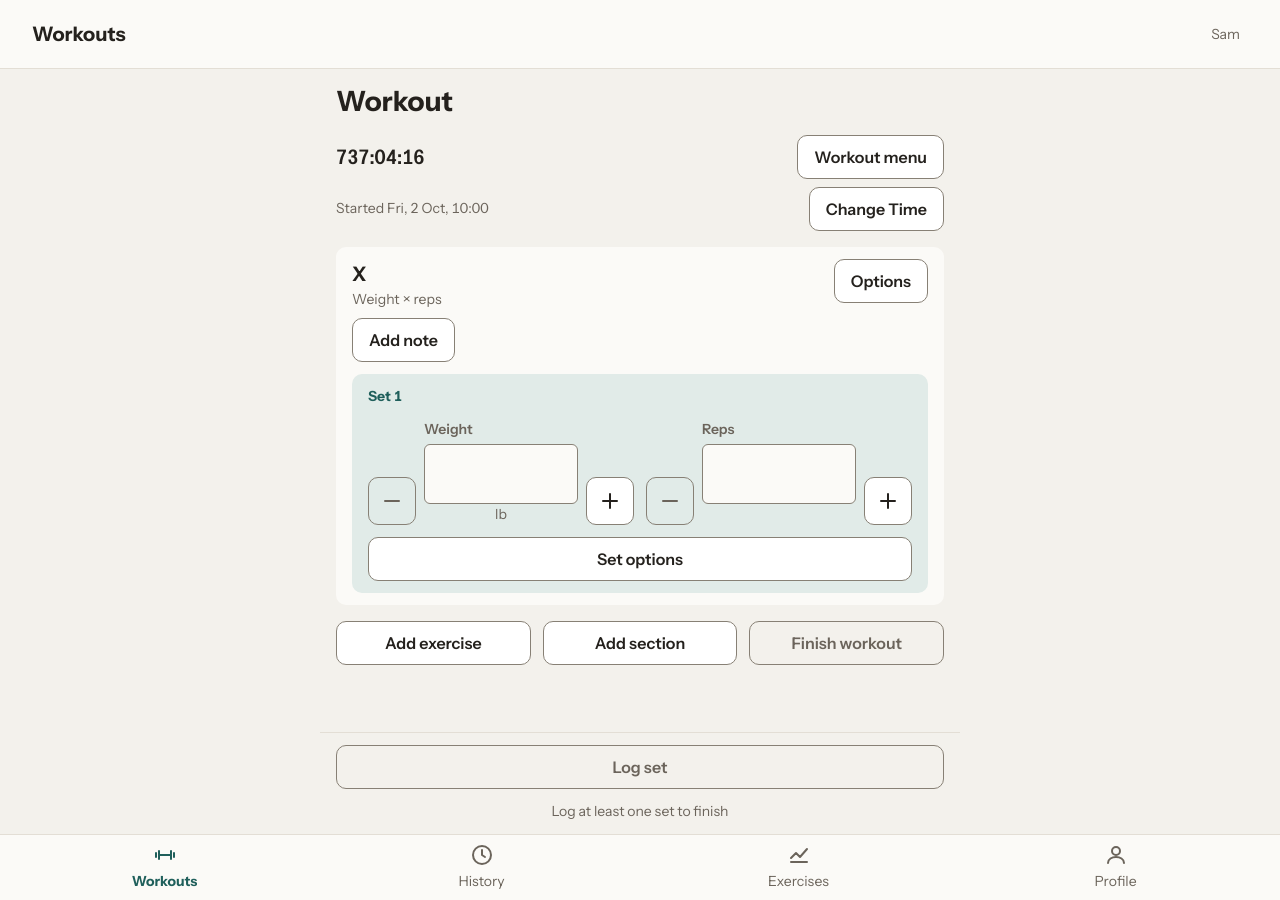
Scenario: 17.1 AC18 — the weight stepper › disables − at 0 (blank counts as 0) and + at SET_WEIGHT_MAX
This screenshot has width=1280, height=900.
expect the heading "Workout" is shown: met, box [336, 84, 453, 118]
expect the button named "Decrease weight by 5 lb" is disabled: met, box [368, 477, 416, 525]
Type "9999.999" into the field labelled "Weight" at coordinates (501, 474), box [424, 444, 578, 504]
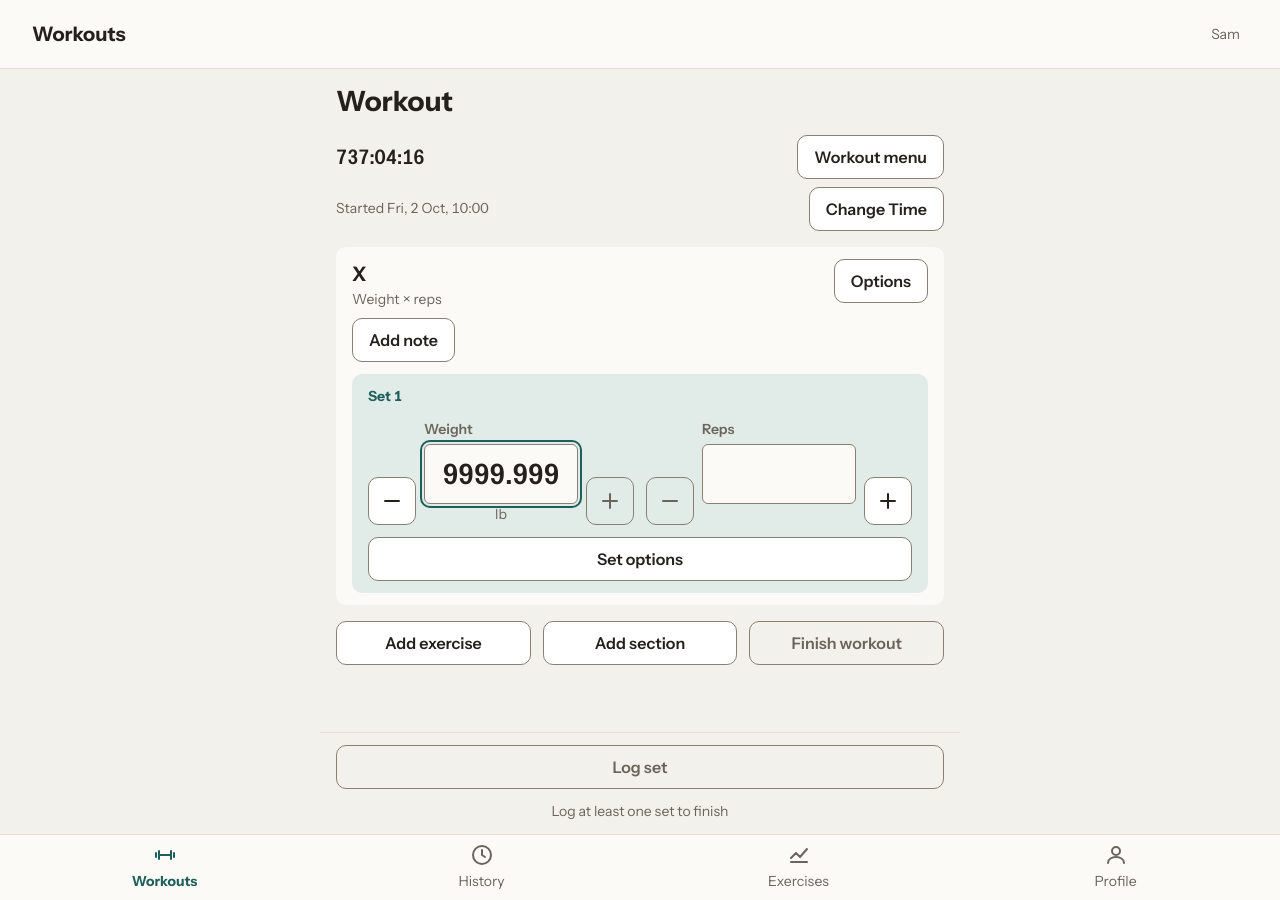
expect the button named "Increase weight by 5 lb" is disabled: met, box [586, 477, 634, 525]
